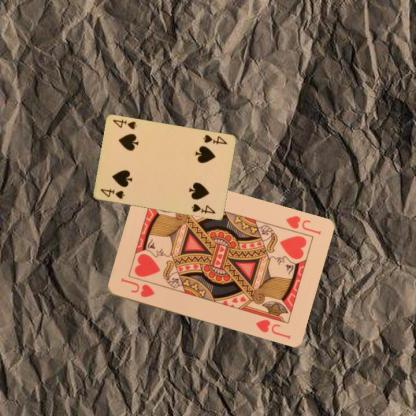4s: (200, 131, 228, 147), (98, 186, 125, 200)
Jh: (282, 213, 322, 237), (118, 275, 155, 299)
